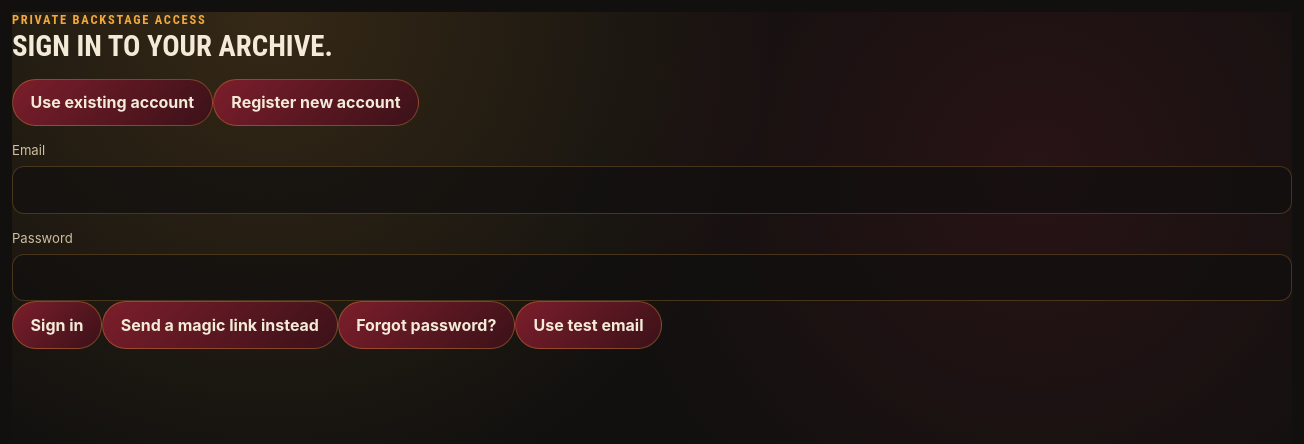
Scenario: AuthPage › signs in with email and password
Type "player@example.com" into the field labelled "Email". click: (652, 190)
box: [12,166,1292,214]
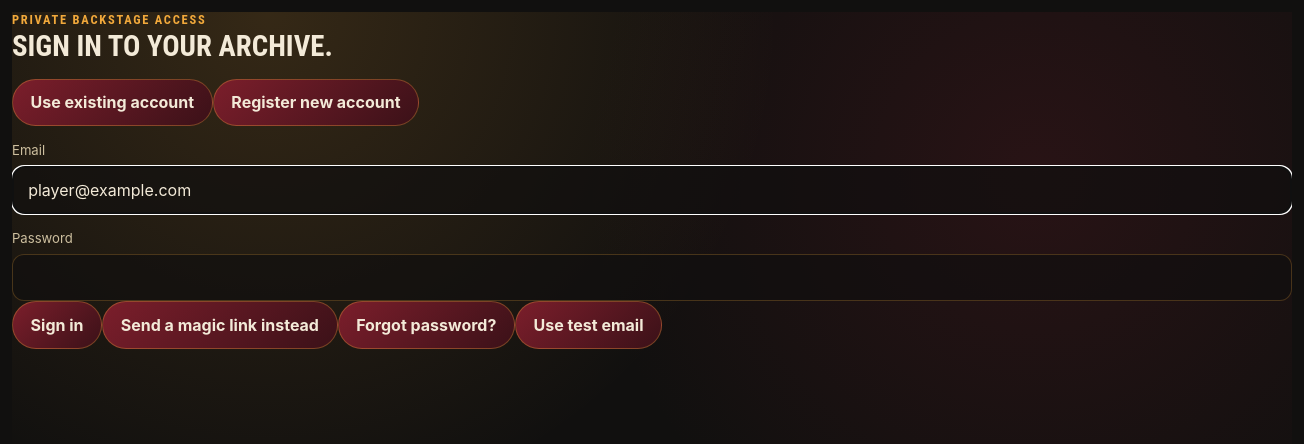
Type "secret123" into the password field labelled "Password". click: (652, 278)
box: [12,254,1292,302]
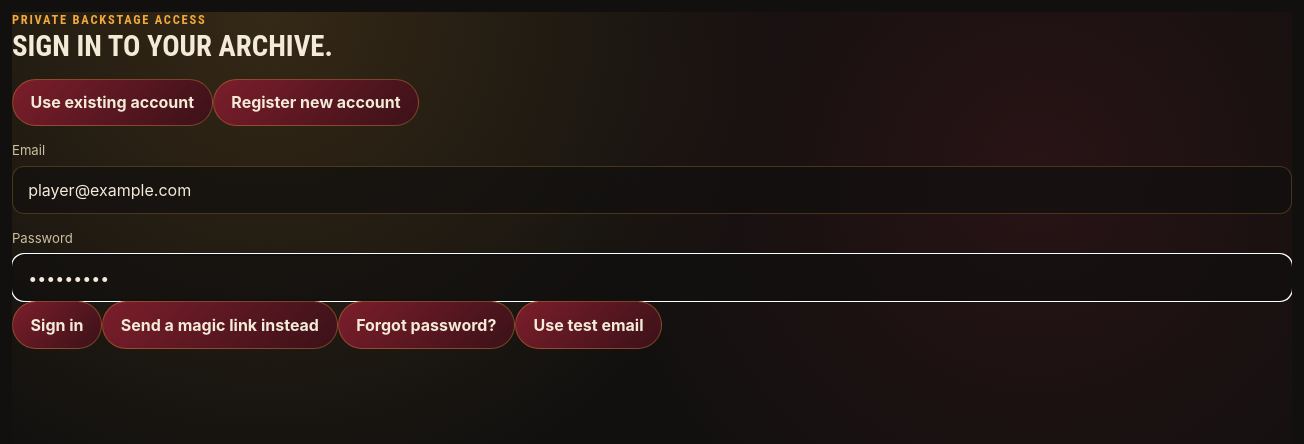
Click the button "Sign in". click: click(57, 325)
box: [12,302,102,349]
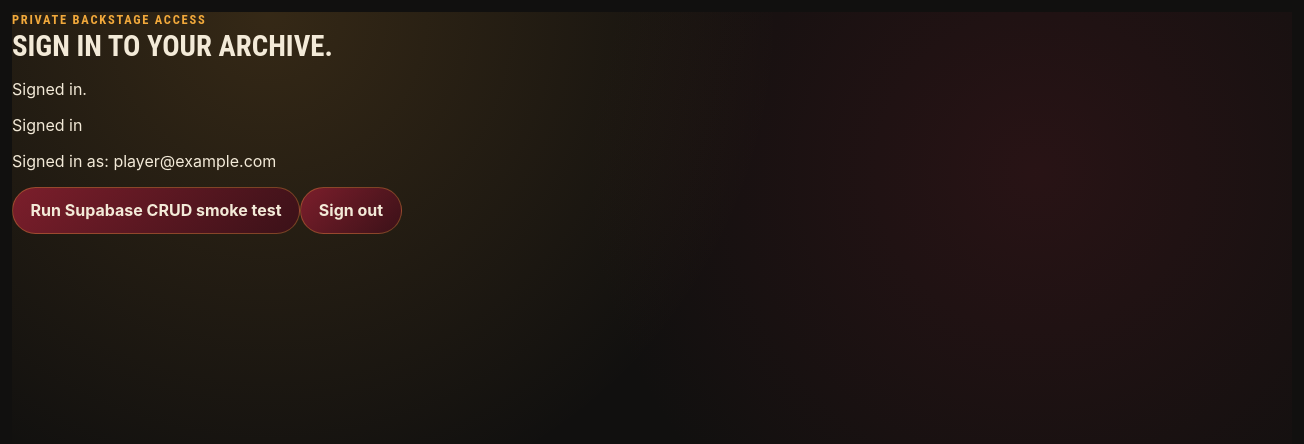
Now the text "Signed in as: player@example.com" is shown, box [12,151,276,171]
